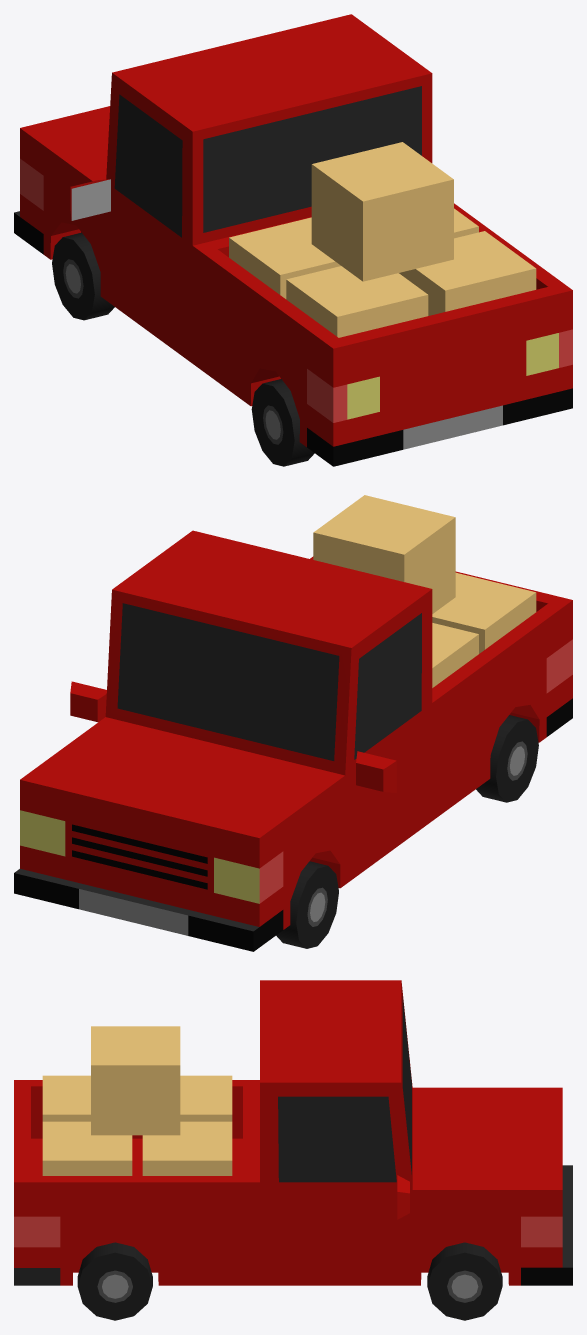
The model's file is ute.fbx.
3 views of the same model, one above another, from view 1: azimuth 30°, elevation 25°; view 2: azimuth 150°, elevation 25°; view 3: azimuth 270°, elevation 25° (orthographic). The views are drawn at different scales.
Visible parts, largest first — view 1: ute_seperate_mesh; view 2: ute_seperate_mesh; view 3: ute_seperate_mesh.
Part boxes in pixels (bbox=[...]): ute_seperate_mesh: bbox=[14, 14, 572, 466]; ute_seperate_mesh: bbox=[14, 495, 572, 951]; ute_seperate_mesh: bbox=[14, 980, 572, 1320].
Bounding box in the file's own units: 0.3159 × 0.2518 × 0.5377.
